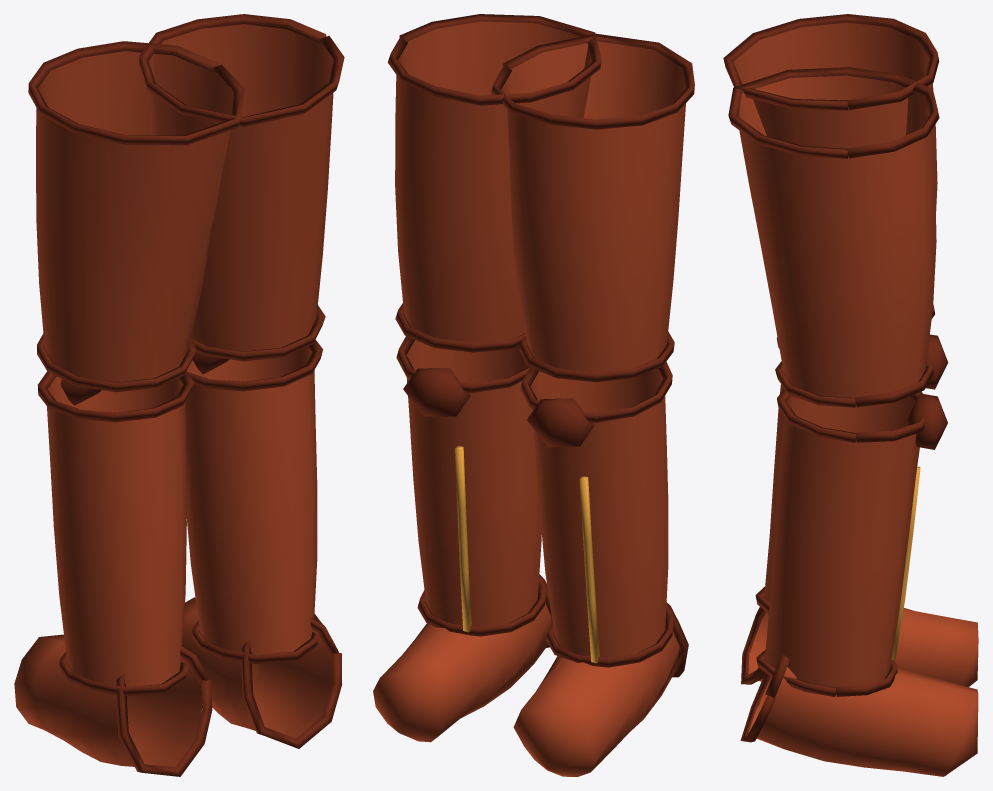
Rendered from meteor_leggings.glb.
The picture shows the model from 3 angles, left to right: view 1: azimuth 30°, elevation 25°; view 2: azimuth 150°, elevation 25°; view 3: azimuth 270°, elevation 25°; orthographic projection. The views are drawn at different scales.
Visible parts, largest first — view 1: meteor_leggings_cuisse.L; view 2: meteor_leggings_cuisse.L; view 3: meteor_leggings_cuisse.L.
Boxes of the visible parts, x1,y1,x2,y2 form: meteor_leggings_cuisse.L: (14,14,344,776); meteor_leggings_cuisse.L: (373,14,694,776); meteor_leggings_cuisse.L: (723,14,978,776).
Size of the model in its own units: 0.4249 by 0.9563 by 0.3366.
